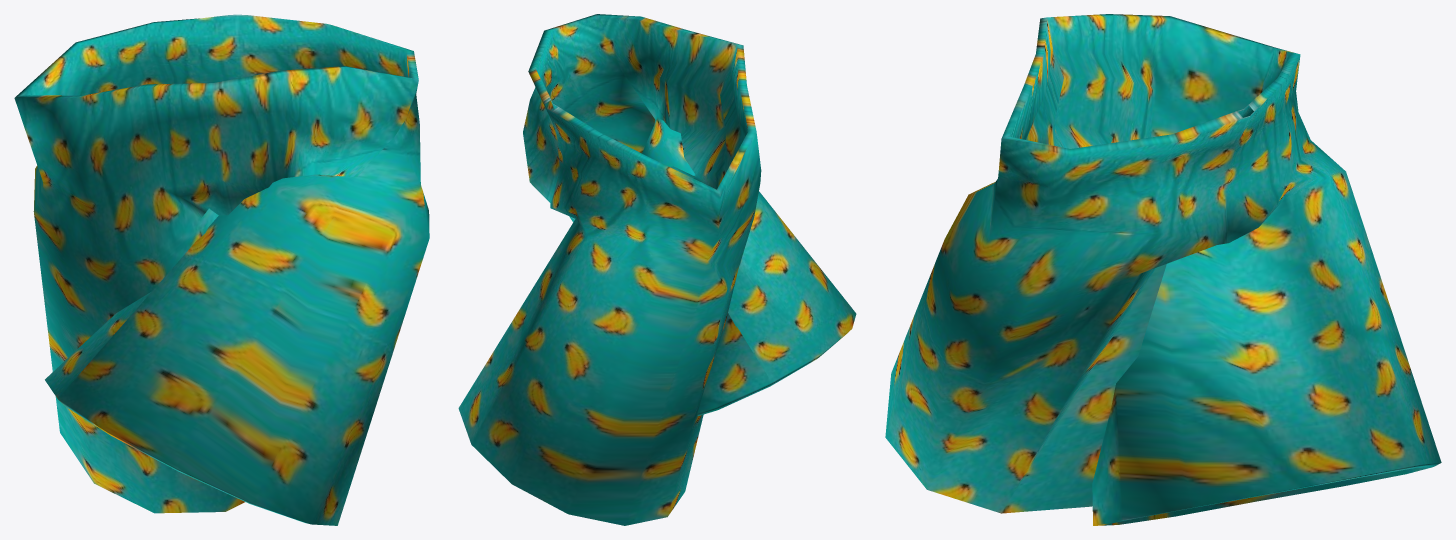
Rendered from m-bottom2.fbx.
The picture shows the model from 3 angles, left to right: view 1: azimuth 30°, elevation 25°; view 2: azimuth 150°, elevation 25°; view 3: azimuth 270°, elevation 25°; orthographic projection. The views are drawn at different scales.
Parts seen in each view (by area): view 1: M.Bottom.Shor.006; view 2: M.Bottom.Shor.006; view 3: M.Bottom.Shor.006.
Boxes of the visible parts, left/top/right/bottom form: M.Bottom.Shor.006: left=14, top=14, right=429, bottom=525; M.Bottom.Shor.006: left=458, top=14, right=856, bottom=525; M.Bottom.Shor.006: left=885, top=14, right=1441, bottom=525.
Size of the model in its own units: 293 by 392 by 397.
